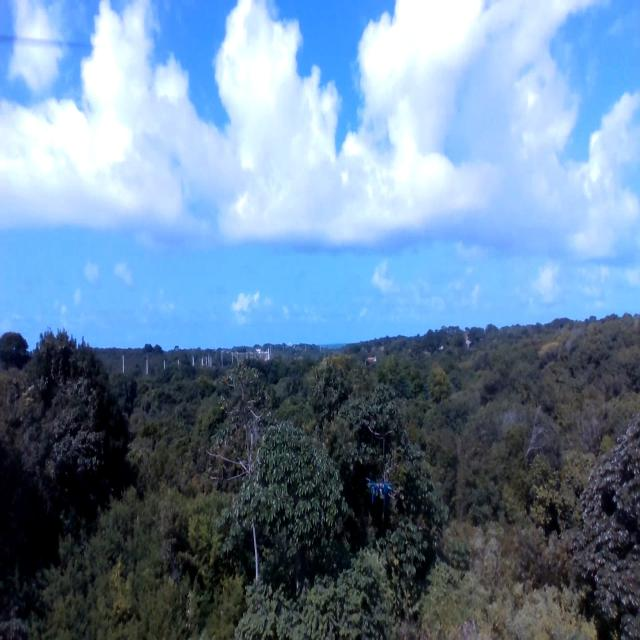-uav-: (361, 463, 398, 516)
